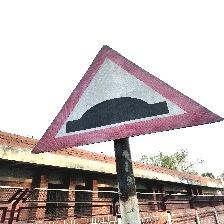Speed-breaker: (32, 45, 223, 152)
